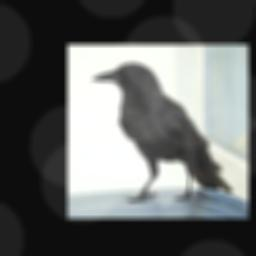Crow: (89, 62, 232, 204)
